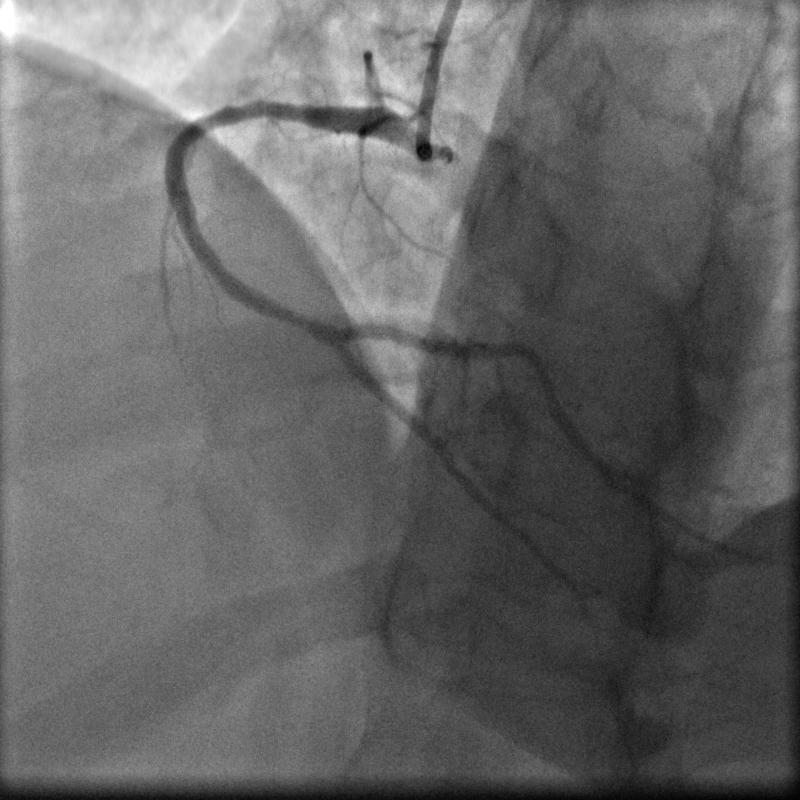Stenosis: (278, 297, 321, 345)
